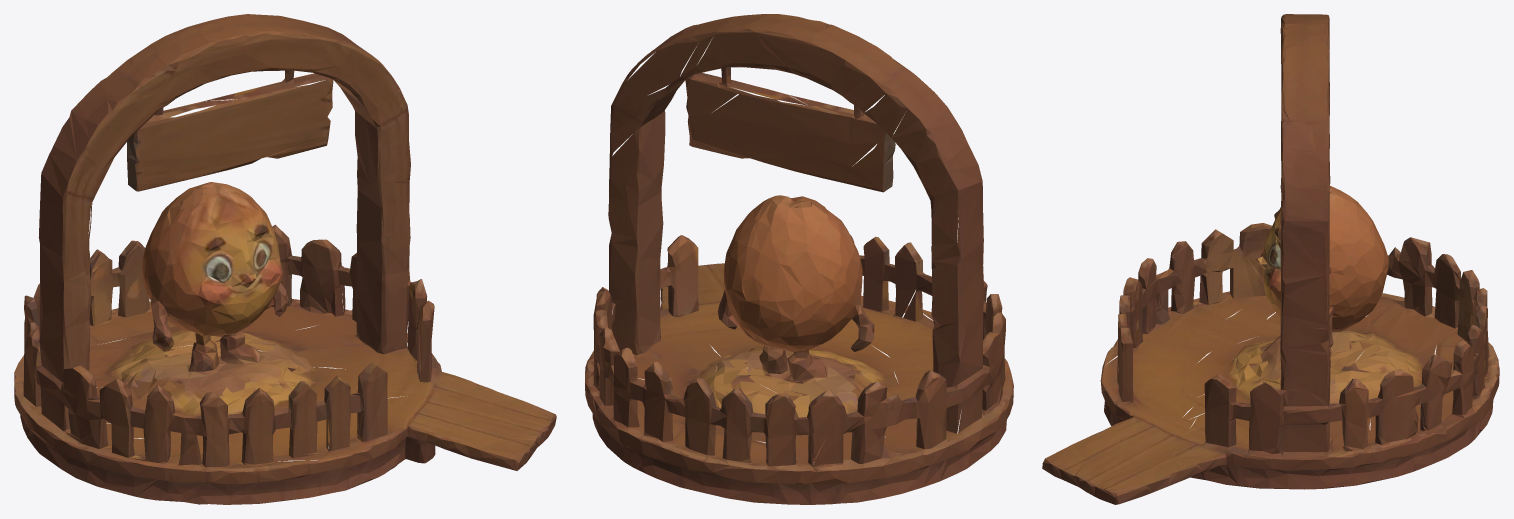
The model's file is game_kolobok.glb.
3 renders of one model, left to right at view 1: azimuth 30°, elevation 25°; view 2: azimuth 150°, elevation 25°; view 3: azimuth 270°, elevation 25°, orthographic. The views are drawn at different scales.
Visible parts, largest first — view 1: geometry_0; view 2: geometry_0; view 3: geometry_0.
Part boxes in pixels (<box>): geometry_0: <box>14,14,556,504</box>; geometry_0: <box>585,14,1013,504</box>; geometry_0: <box>1042,14,1499,504</box>.
Bounding box in the file's own units: 2.2 × 1.96 × 2.19.
Materials: 1 (1 with a texture image).
